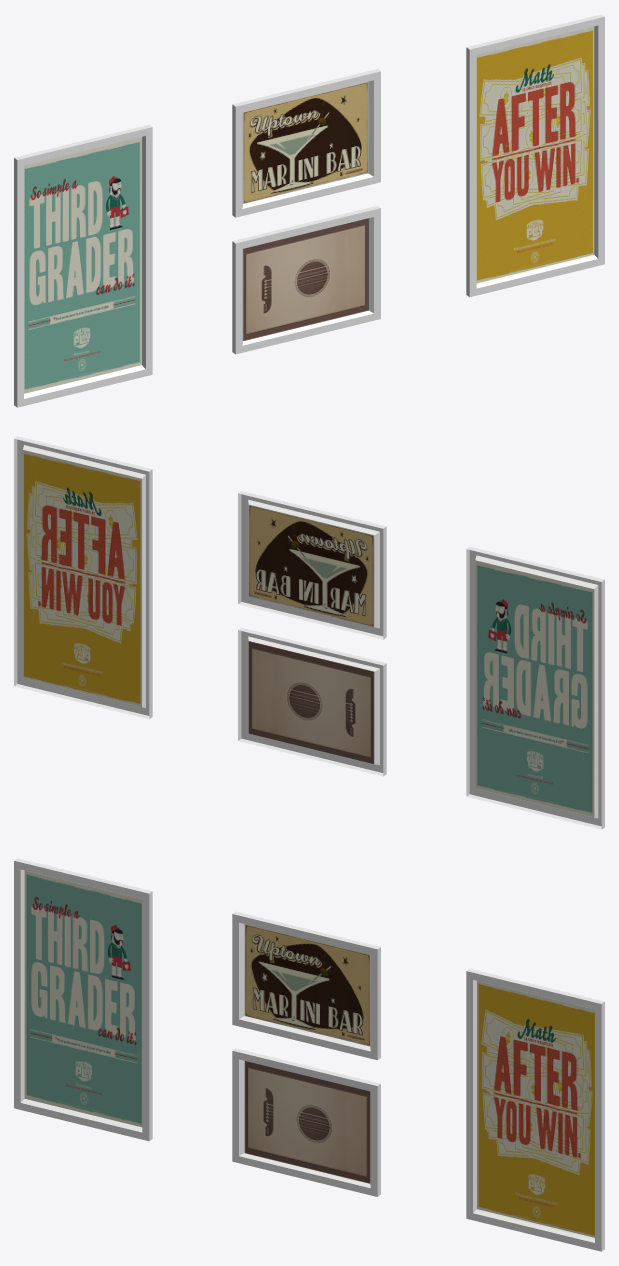
Rendered from 4 Quadros.FBX.
3 views of the same model, one above another, from view 1: azimuth 30°, elevation 25°; view 2: azimuth 150°, elevation 25°; view 3: azimuth 330°, elevation 25° (orthographic).
Visible parts, largest first — view 1: 4 Quadros; view 2: 4 Quadros; view 3: 4 Quadros.
Part boxes in pixels (box(x1,y1,x2,y2)): 4 Quadros: box(14, 14, 604, 407); 4 Quadros: box(14, 436, 604, 829); 4 Quadros: box(14, 858, 604, 1251).
Bounding box in the file's own units: 348 × 140 × 3.46.
